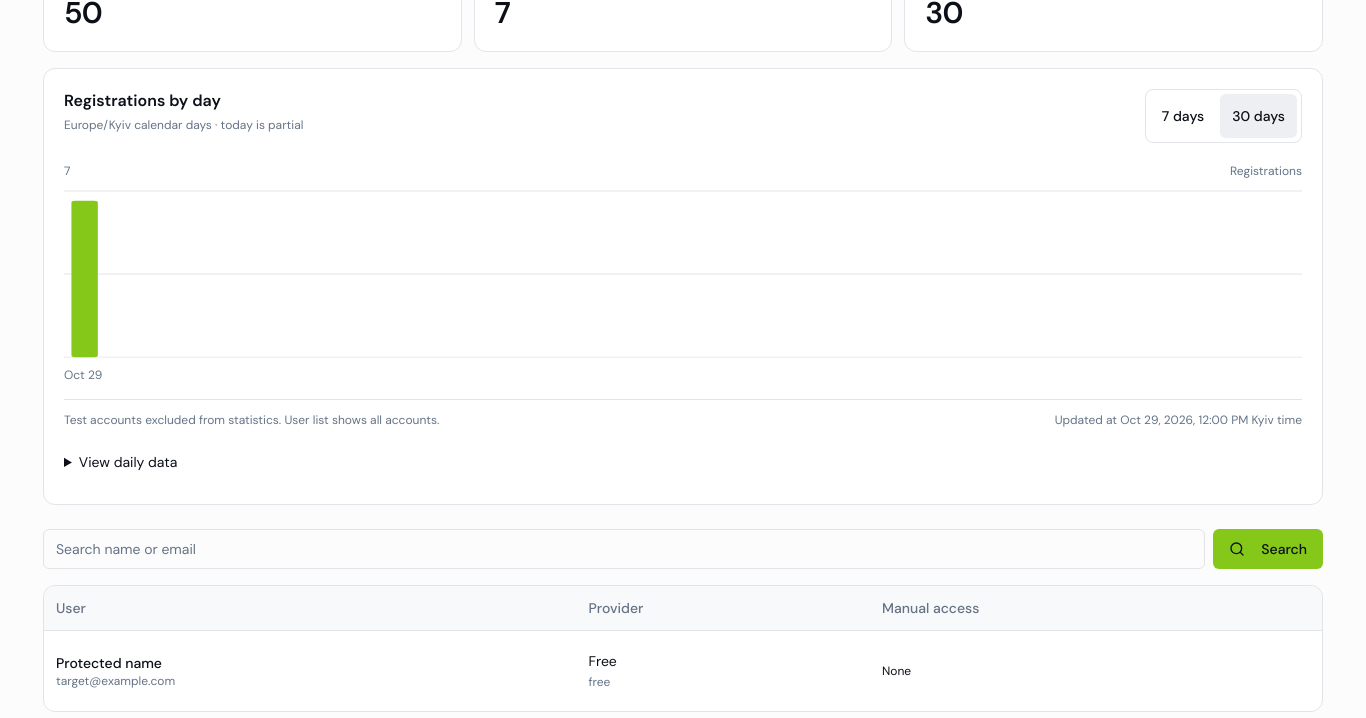
Scenario: admin capability boundary › removes cached list, details, actions and navigation after final mutation 401
The width and height of the screenshot is (1366, 718).
(page scrolled)
Click the button "Protected name target@example.com": [116, 671] box 56,649 -> 175,693
(page scrolled)
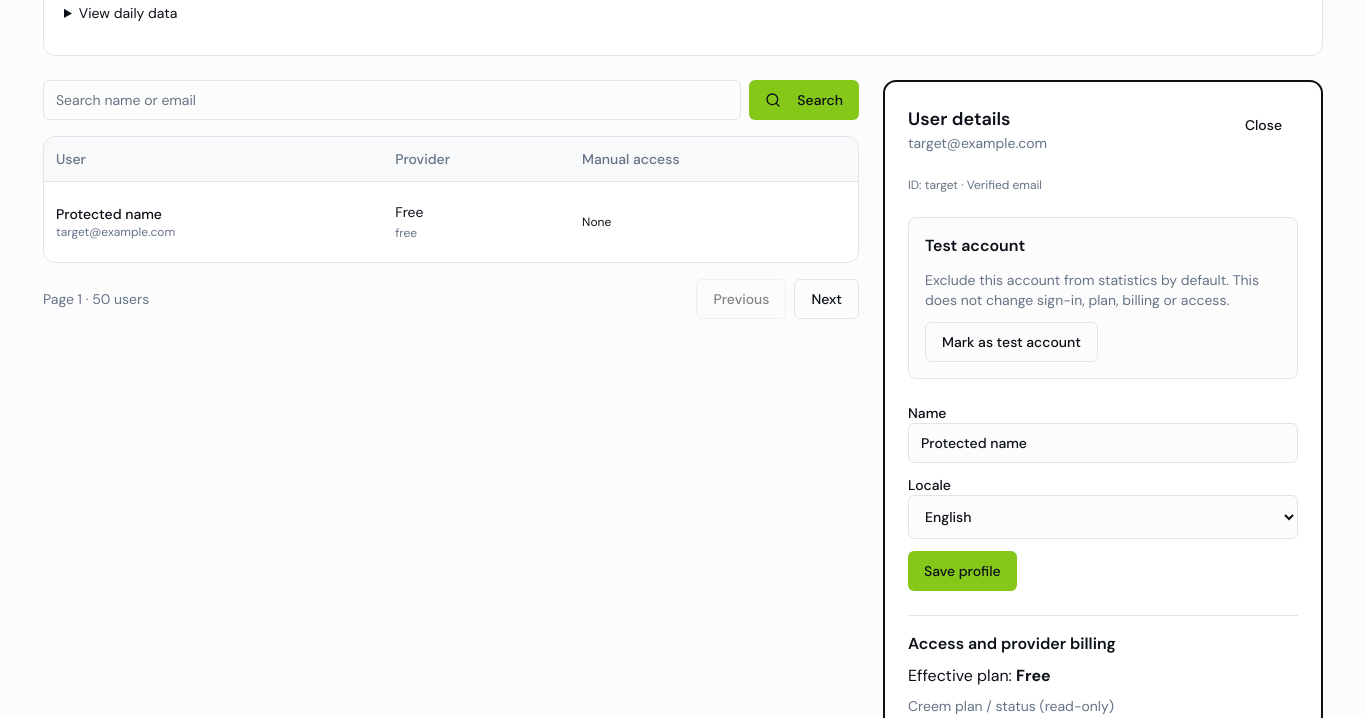
Check: the button "Save profile" is shown
Click the button "Save profile": [962, 571] box 908,551 -> 1017,591
(page scrolled)
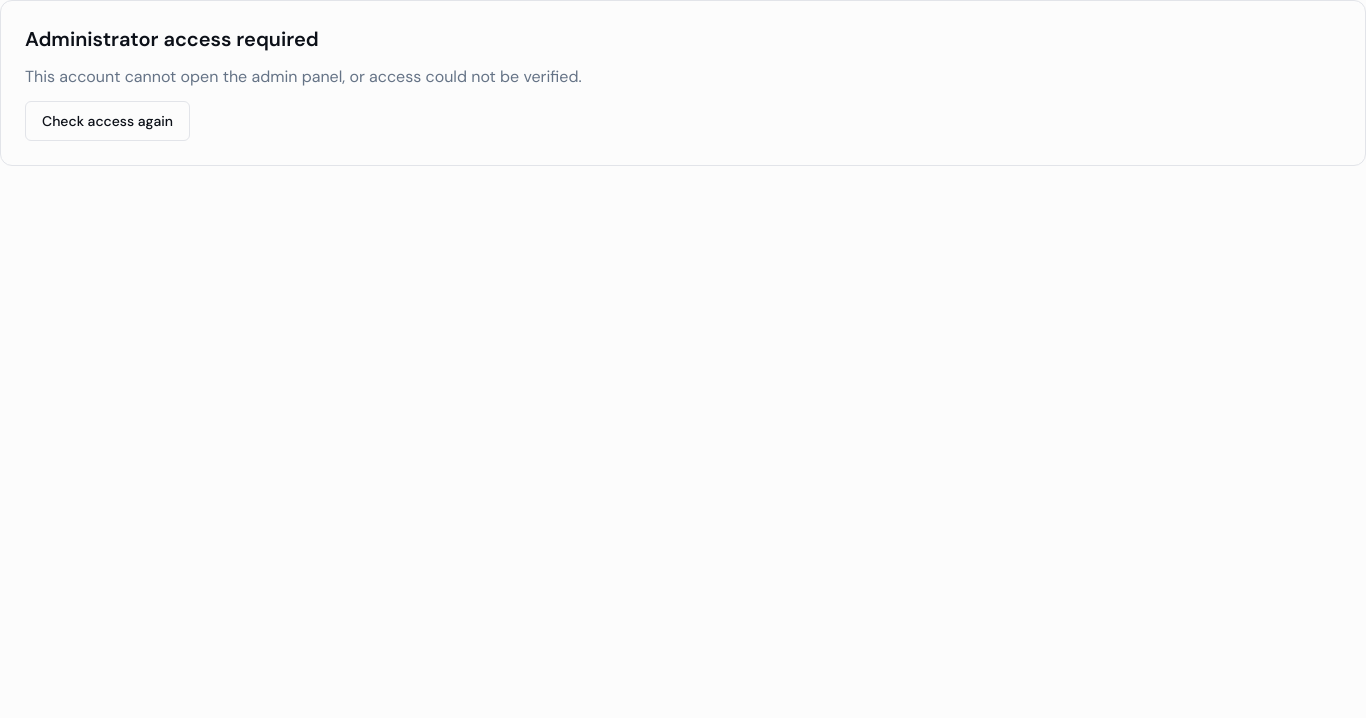
Check: the heading "Administrator access required" is shown, box 25,26 -> 319,52
Check: the button "Protected name" is gone
Check: the button "Save profile" is gone
